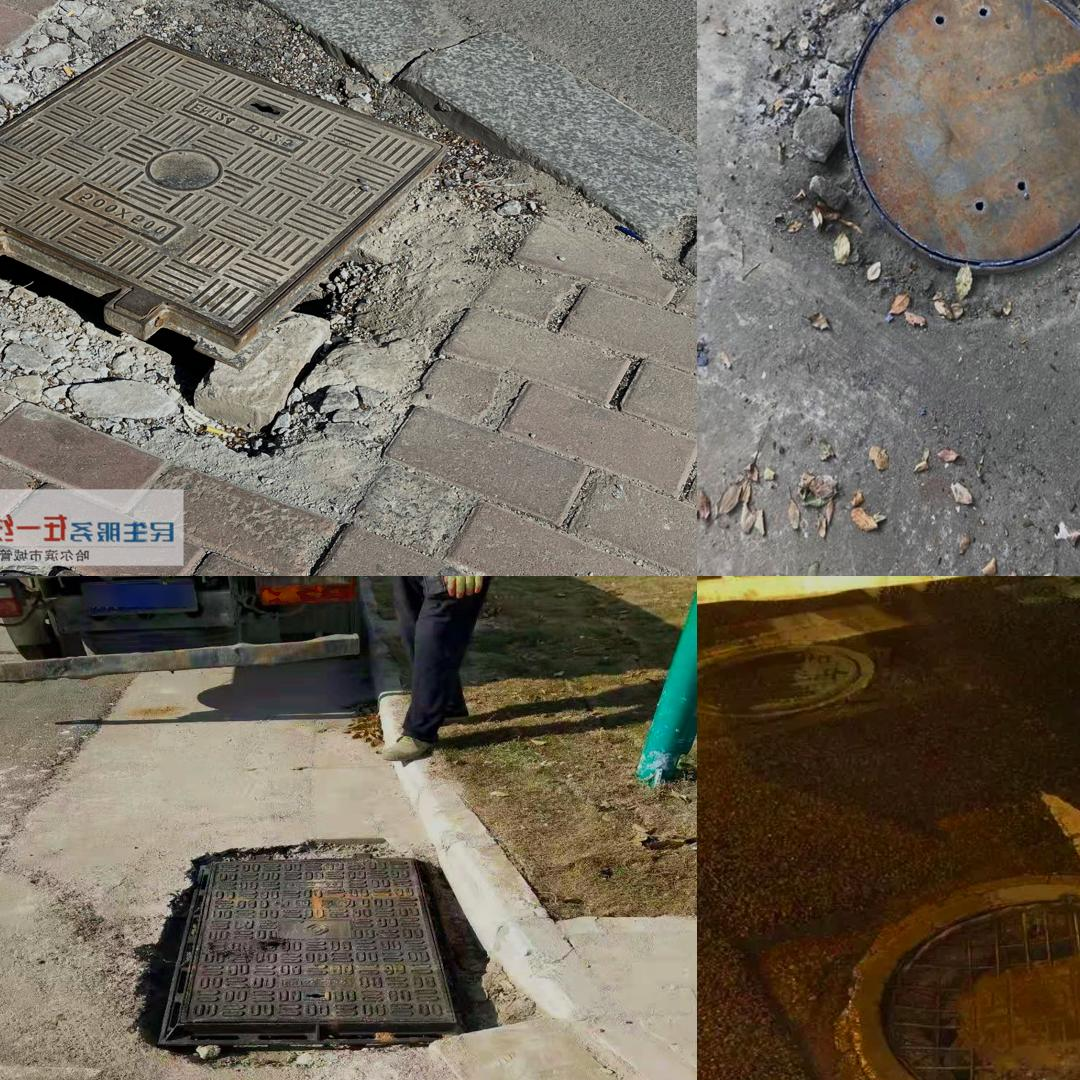circle: (0, 31, 545, 454), (753, 0, 1080, 352), (133, 847, 503, 1061), (763, 846, 1080, 1080)
